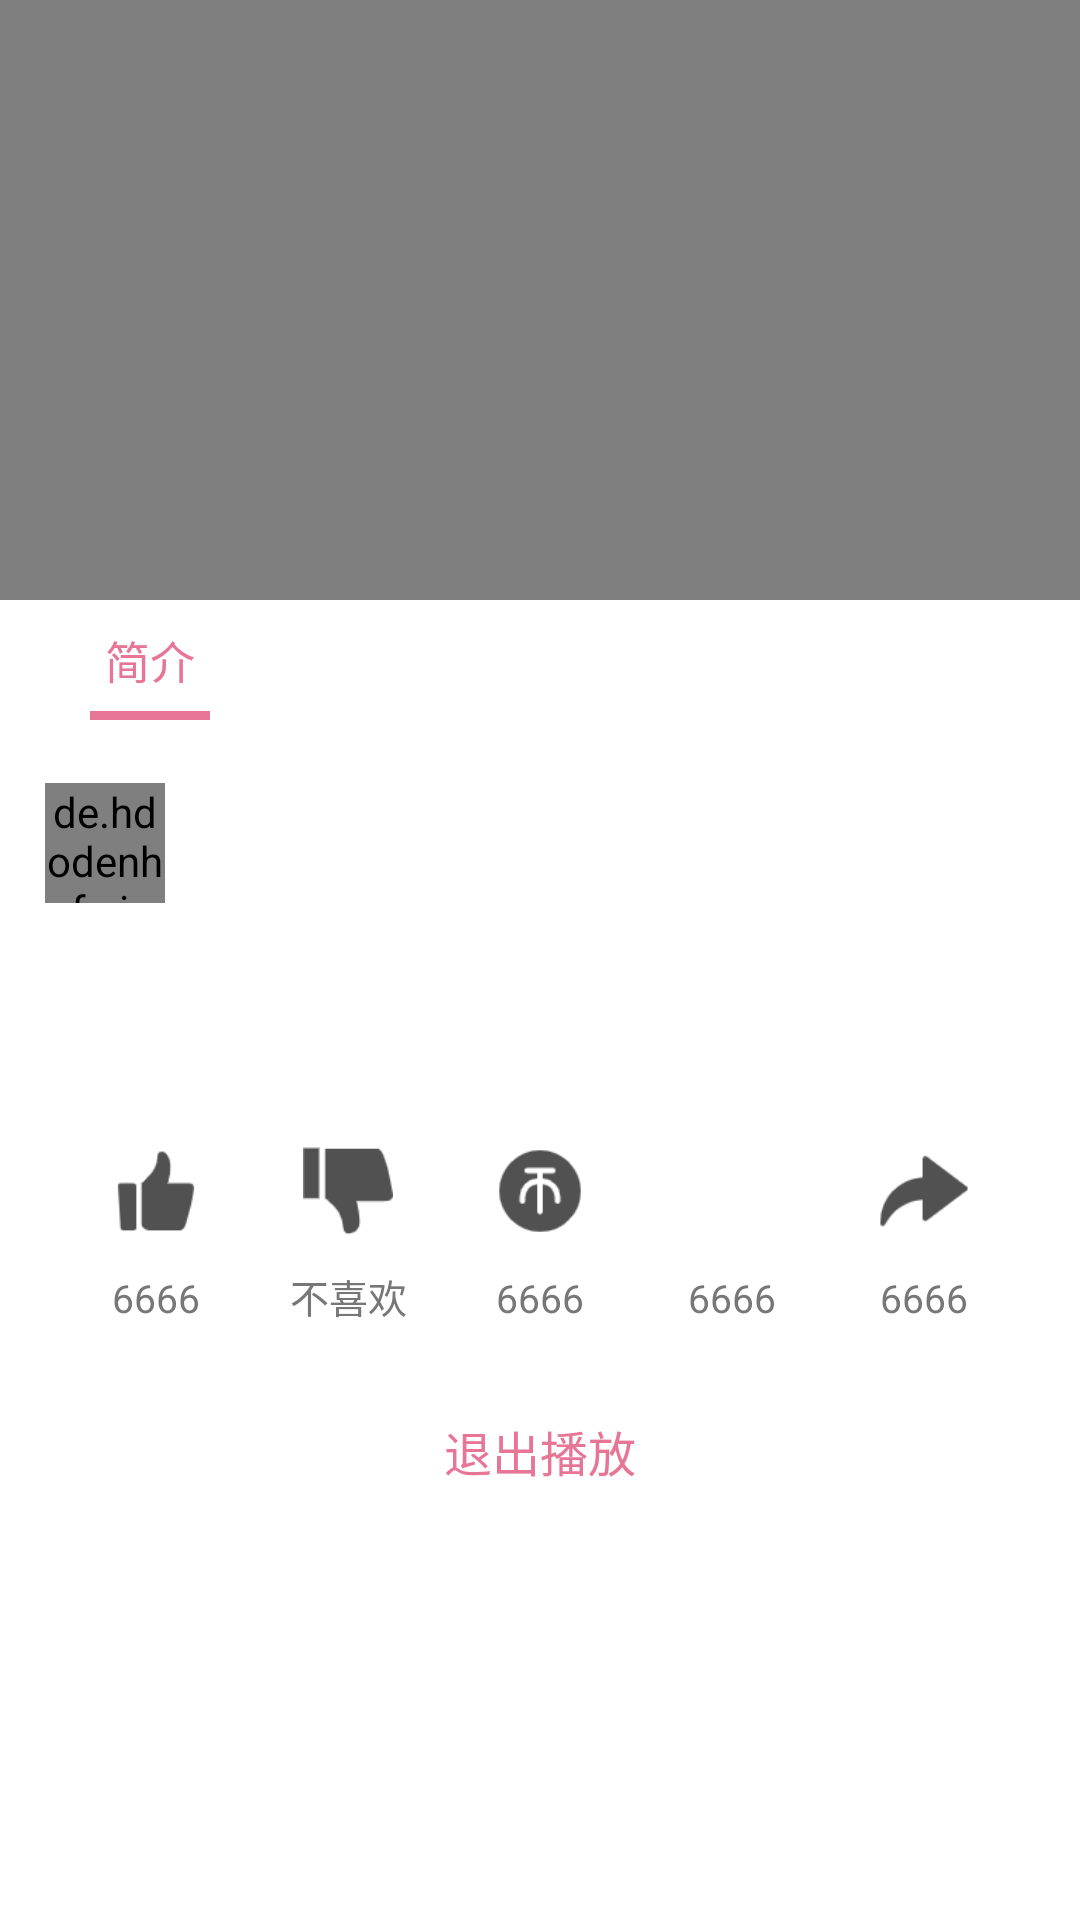

Where to tap for icons on this 1080px x 1920px app screen, as (x,y):
coins: (540,1191)
forword: (924,1191)
like: (156,1191)
nolike: (348,1190)
